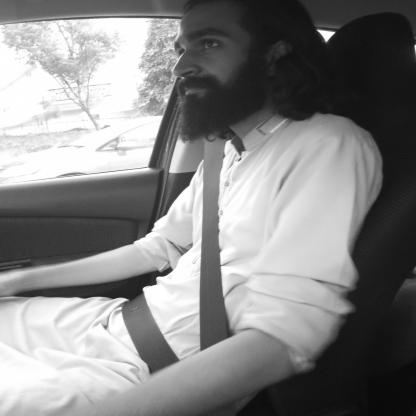seatbelt: (157, 1, 329, 289)
